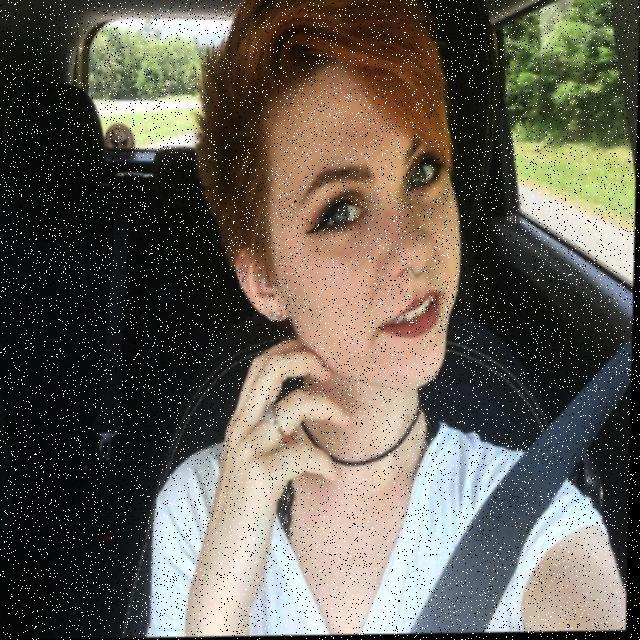seatbelt: (212, 390, 632, 638)
